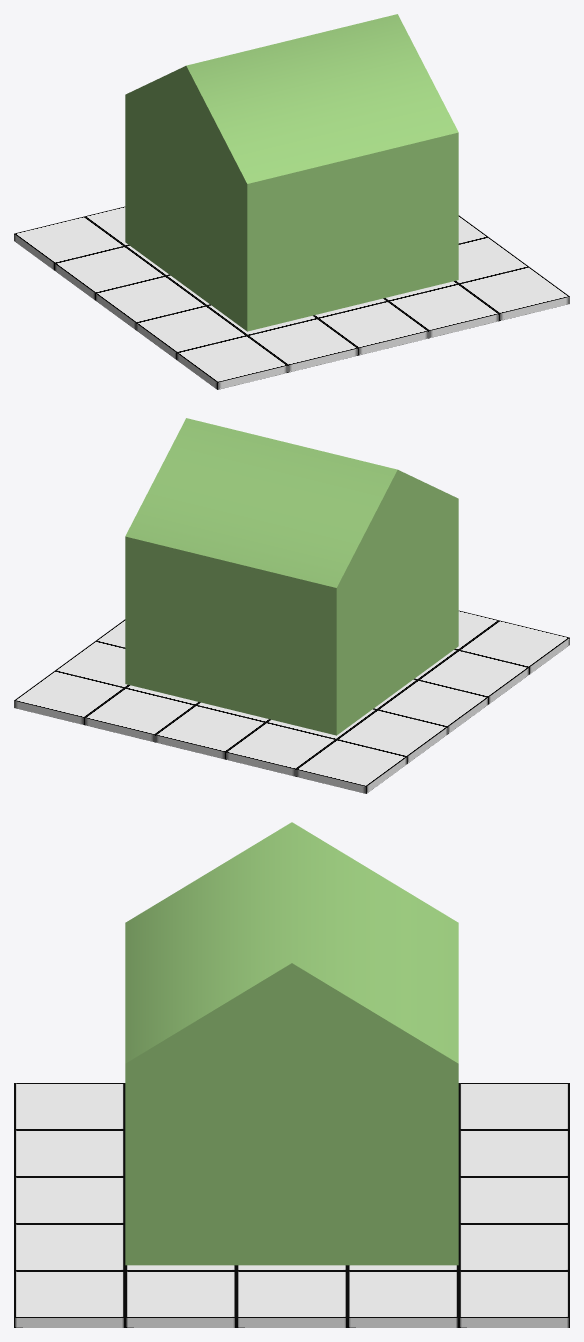
Rendered from XG_Small-barn.glb.
The picture shows the model from 3 angles, top to bottom: view 1: azimuth 30°, elevation 25°; view 2: azimuth 150°, elevation 25°; view 3: azimuth 270°, elevation 25°; orthographic projection. The views are drawn at different scales.
Parts seen in each view (by area): view 1: building_3m_3m_001, 1m_base_block_611, 1m_base_block_601, 1m_base_block_596, 1m_base_block_606, 1m_base_block_591, 1m_base_block_608, 1m_base_block_609, 1m_base_block_610, 1m_base_block_607, 1m_base_block_590, 1m_base_block_602 (+2 smaller); view 2: building_3m_3m_001, 1m_base_block_607, 1m_base_block_597, 1m_base_block_592, 1m_base_block_602, 1m_base_block_587, 1m_base_block_610, 1m_base_block_608, 1m_base_block_609, 1m_base_block_611, 1m_base_block_588, 1m_base_block_606 (+2 smaller); view 3: building_3m_3m_001, 1m_base_block_587, 1m_base_block_588, 1m_base_block_589, 1m_base_block_590, 1m_base_block_591, 1m_base_block_592, 1m_base_block_596, 1m_base_block_597, 1m_base_block_601, 1m_base_block_602, 1m_base_block_606 (+5 smaller).
Boxes of the visible parts, x1=… form: building_3m_3m_001: x1=125, y1=14, x2=458, y2=331; 1m_base_block_611: x1=176, y1=335, x2=287, y2=389; 1m_base_block_601: x1=318, y1=301, x2=428, y2=355; 1m_base_block_596: x1=388, y1=284, x2=499, y2=338; 1m_base_block_606: x1=247, y1=318, x2=358, y2=372; 1m_base_block_591: x1=459, y1=267, x2=569, y2=320; 1m_base_block_608: x1=54, y1=246, x2=165, y2=299; 1m_base_block_609: x1=95, y1=276, x2=206, y2=329; 1m_base_block_610: x1=136, y1=306, x2=246, y2=359; 1m_base_block_607: x1=14, y1=216, x2=124, y2=270; 1m_base_block_590: x1=455, y1=237, x2=528, y2=283; 1m_base_block_602: x1=85, y1=206, x2=128, y2=245; building_3m_3m_001: x1=125, y1=418, x2=458, y2=735; 1m_base_block_607: x1=296, y1=739, x2=407, y2=793; 1m_base_block_597: x1=155, y1=705, x2=265, y2=759; 1m_base_block_592: x1=84, y1=688, x2=195, y2=742; 1m_base_block_602: x1=225, y1=722, x2=336, y2=776; 1m_base_block_587: x1=14, y1=671, x2=124, y2=724; 1m_base_block_610: x1=418, y1=650, x2=529, y2=703; 1m_base_block_608: x1=337, y1=710, x2=447, y2=763; 1m_base_block_609: x1=377, y1=680, x2=488, y2=733; 1m_base_block_611: x1=459, y1=620, x2=569, y2=674; 1m_base_block_588: x1=55, y1=641, x2=128, y2=687; 1m_base_block_606: x1=455, y1=610, x2=498, y2=649; building_3m_3m_001: x1=125, y1=822, x2=458, y2=1265; 1m_base_block_587: x1=458, y1=1271, x2=569, y2=1327; 1m_base_block_588: x1=347, y1=1271, x2=458, y2=1327; 1m_base_block_589: x1=236, y1=1271, x2=347, y2=1327; 1m_base_block_590: x1=125, y1=1271, x2=236, y2=1327; 1m_base_block_591: x1=14, y1=1271, x2=125, y2=1327; 1m_base_block_592: x1=458, y1=1224, x2=569, y2=1270; 1m_base_block_596: x1=14, y1=1224, x2=125, y2=1270; 1m_base_block_597: x1=458, y1=1177, x2=569, y2=1223; 1m_base_block_601: x1=14, y1=1177, x2=125, y2=1223; 1m_base_block_602: x1=458, y1=1130, x2=569, y2=1176; 1m_base_block_606: x1=14, y1=1130, x2=125, y2=1176.
Size of the model in its own units: 5 by 3.15 by 5.
Materials: 2 (1 with a texture image).
